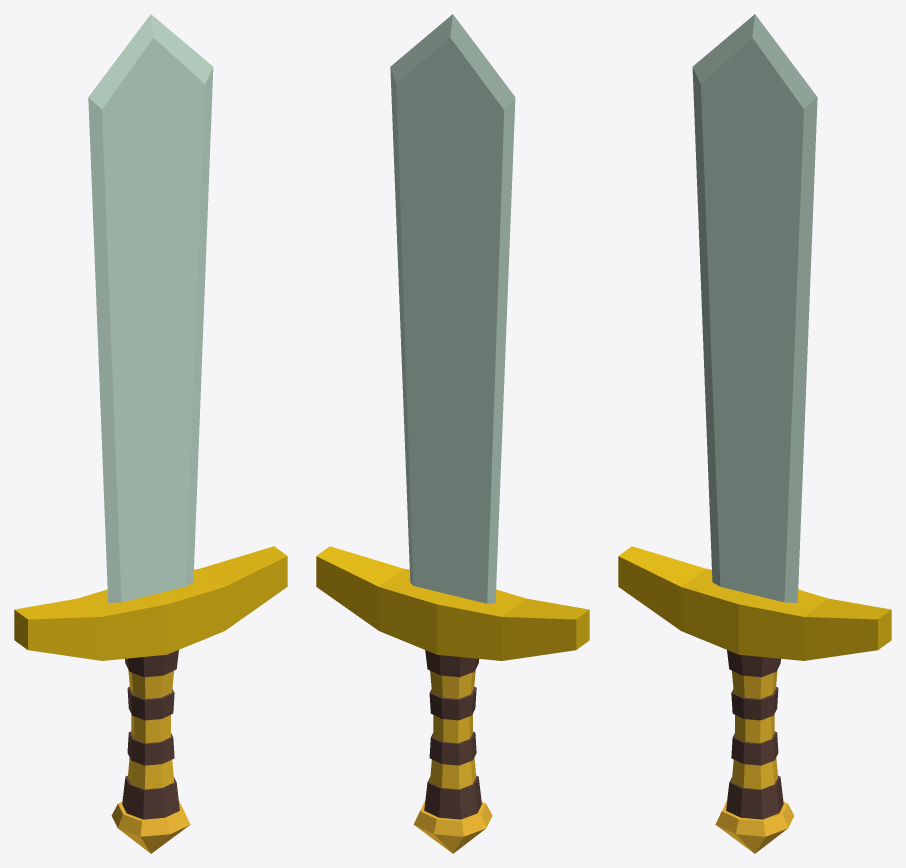
File: Sword_Fantastic.fbx
The picture shows the model from 3 angles, left to right: view 1: azimuth 30°, elevation 25°; view 2: azimuth 150°, elevation 25°; view 3: azimuth 330°, elevation 25°; orthographic projection.
Parts seen in each view (by area): view 1: Sword; view 2: Sword; view 3: Sword.
Part boxes in pixels (left/top/right/bottom): Sword: left=14, top=14, right=287, bottom=853; Sword: left=316, top=14, right=589, bottom=853; Sword: left=618, top=14, right=891, bottom=853.
Size of the model in its own units: 454 by 1403 by 117.
